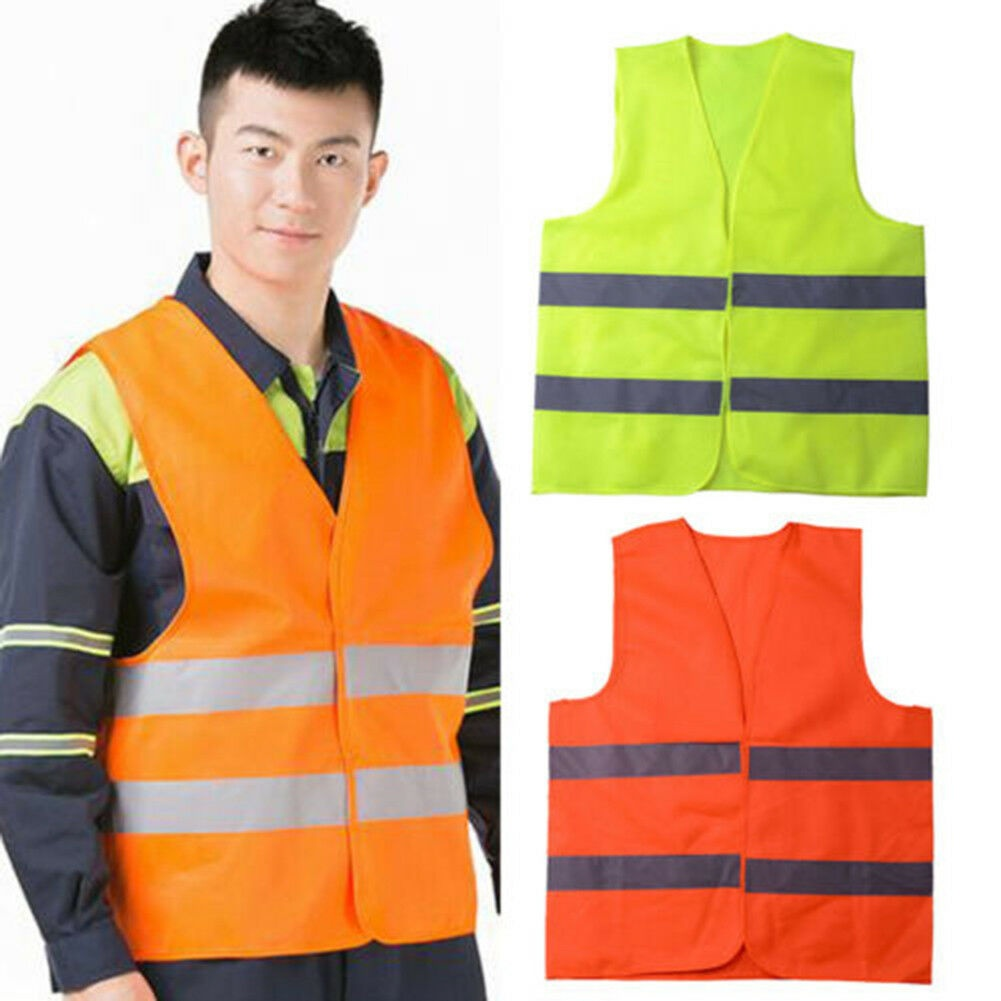person with partial safety: (9, 3, 507, 996)
safety vest: (47, 325, 477, 949), (535, 44, 931, 500), (544, 521, 928, 983)
